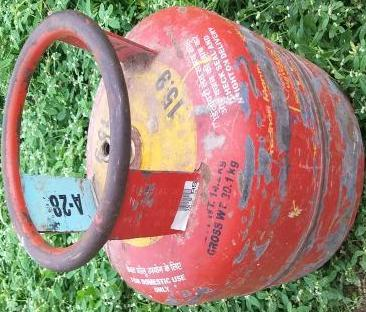cylinder: (1, 1, 366, 312)
